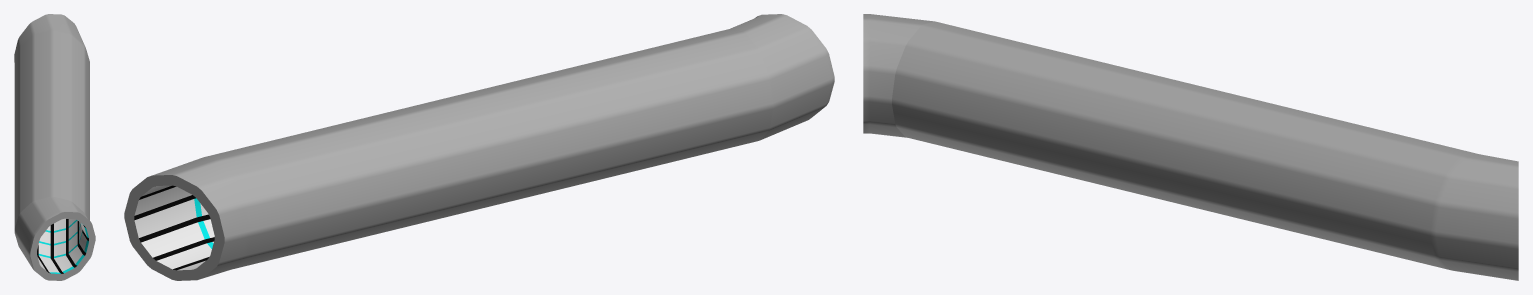
File: 01-Curva-Dir-01.fbx
3 views of the same model, side by side, from view 1: azimuth 30°, elevation 25°; view 2: azimuth 150°, elevation 25°; view 3: azimuth 270°, elevation 25° (orthographic). The views are drawn at different scales.
Visible parts, largest first — view 1: Base16; view 2: Base16; view 3: Base16.
Part boxes in pixels (left/top/right/bottom): Base16: left=14, top=14, right=95, bottom=280; Base16: left=124, top=14, right=834, bottom=280; Base16: left=863, top=14, right=1518, bottom=280.
Size of the model in its own units: 19582 by 4993 by 27400.
